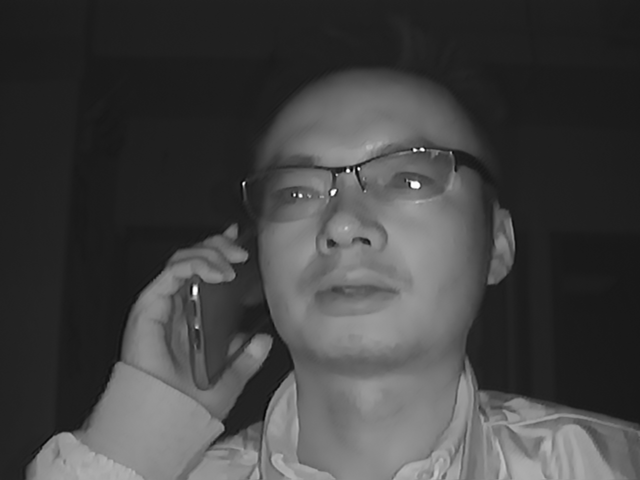hand: (114, 219, 259, 401)
